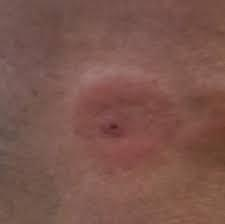Tick: (74, 76, 175, 171)
